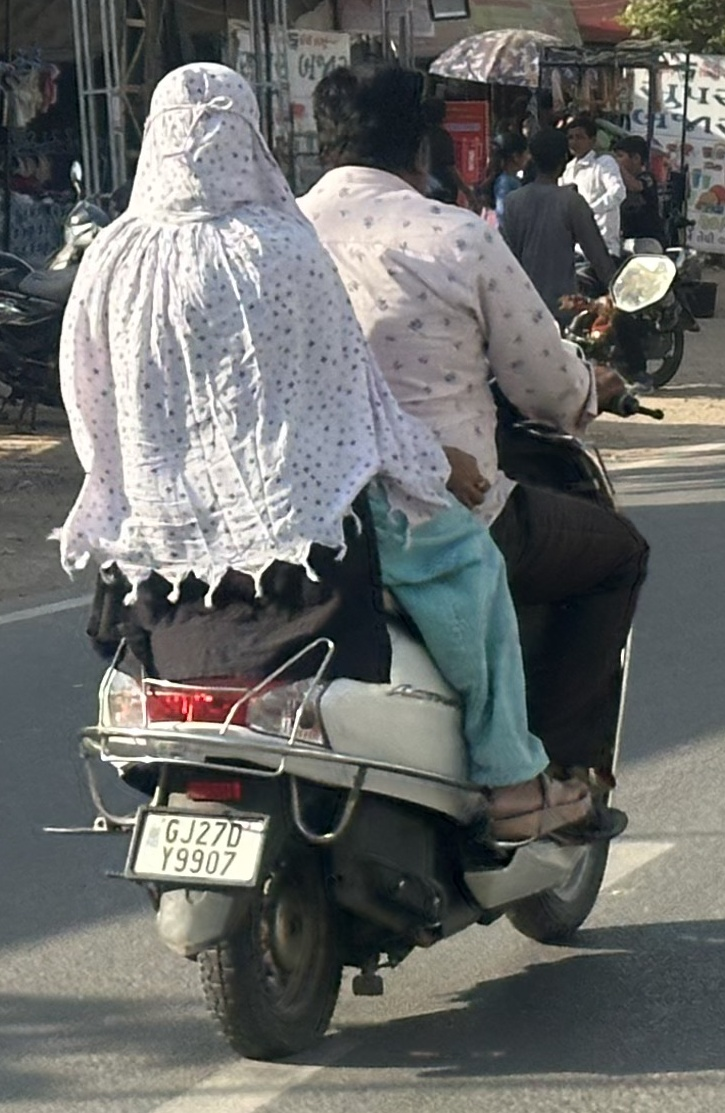BikeWithRider: (28, 51, 686, 1068)
NoHelmet: (120, 60, 276, 219), (302, 52, 454, 215)
